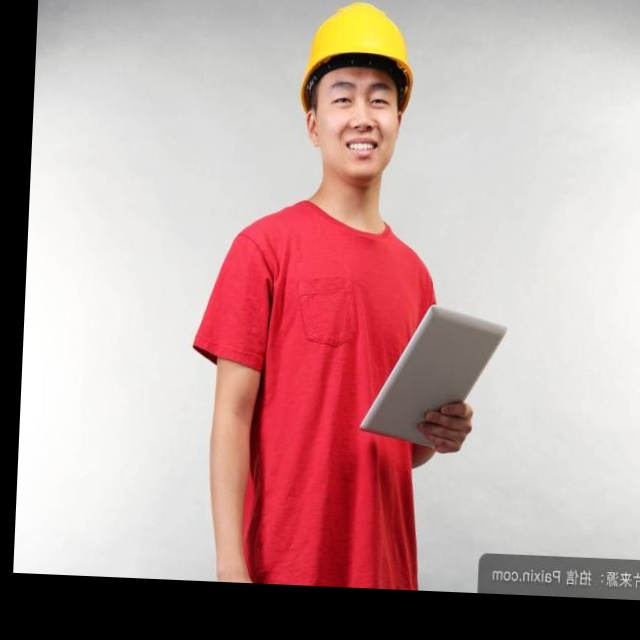Con_Casco: (295, 0, 422, 193)
Sin_Chaleco: (234, 201, 435, 572)
